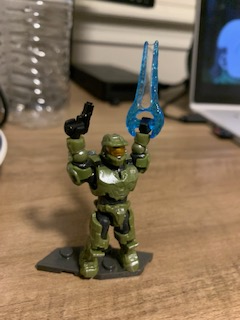chief: (61, 117, 149, 281)
pistol: (61, 101, 96, 139)
spartan: (59, 115, 147, 279)
up: (65, 116, 151, 203)
